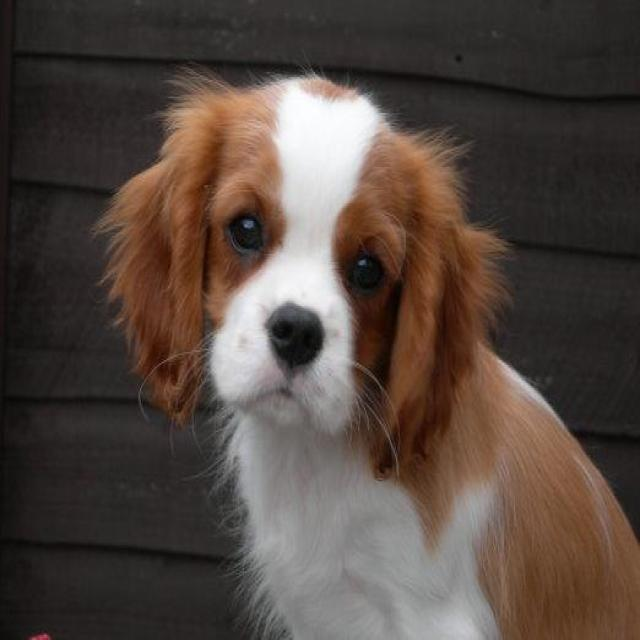blenheim_spaniel: (91, 61, 639, 638)
